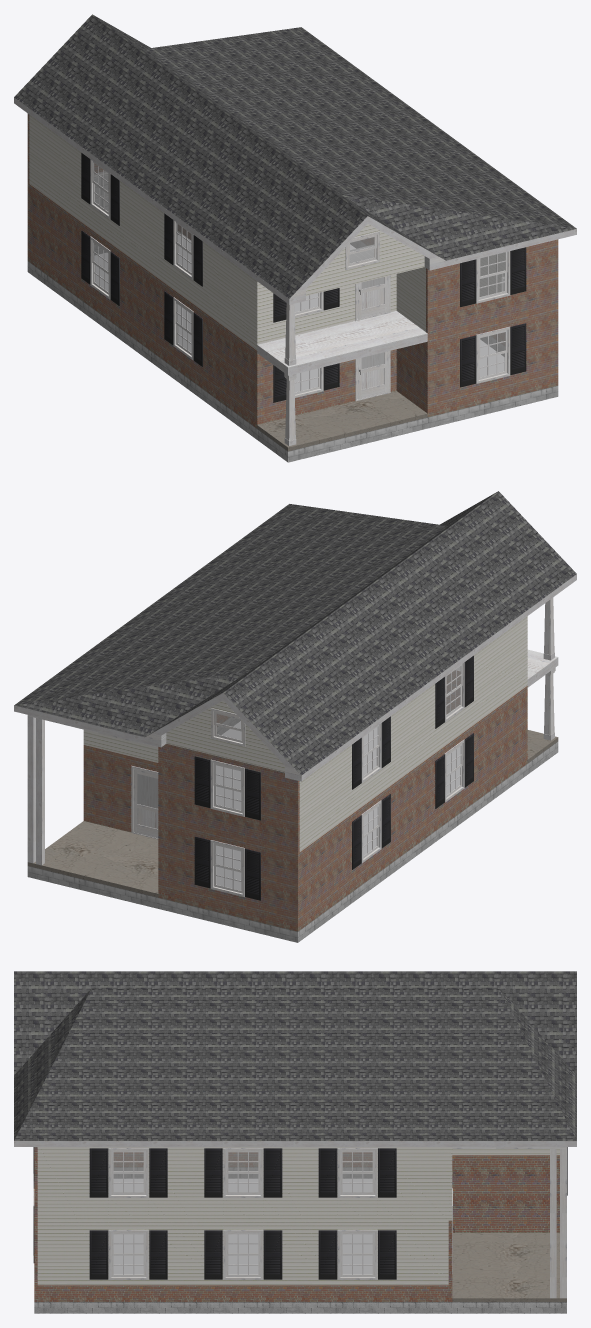
Rendered from duplex-house.glb.
3 renders of one model, top to bottom at view 1: azimuth 30°, elevation 25°; view 2: azimuth 150°, elevation 25°; view 3: azimuth 270°, elevation 25°, orthographic. The views are drawn at different scales.
Parts seen in each view (by area): view 1: Material2 (×8); view 2: Material2 (×8); view 3: Material2 (×8).
Part boxes in pixels (x1=…): Material2 (×8): x1=14, y1=14, x2=576, y2=462; Material2 (×8): x1=14, y1=491, x2=576, y2=942; Material2 (×8): x1=14, y1=971, x2=576, y2=1313.
Size of the model in its own units: 402 by 316 by 666.
Materials: 11 (8 with a texture image).
